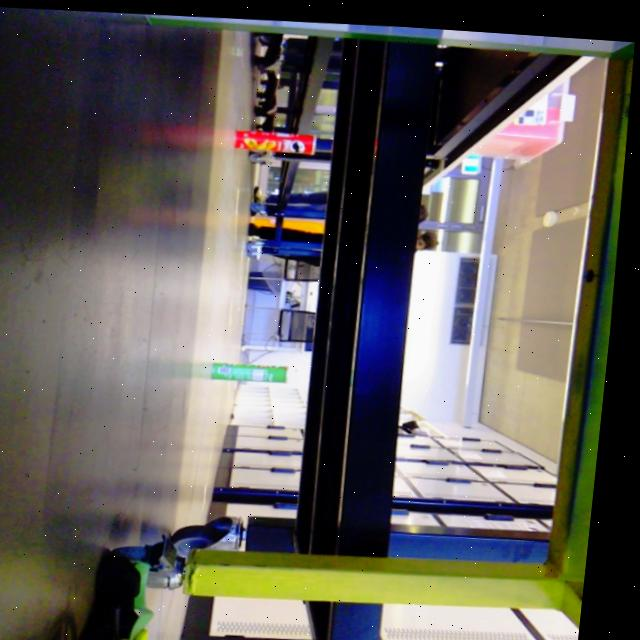greenpringles: (209, 347, 308, 392)
redpringles: (232, 116, 330, 165)
